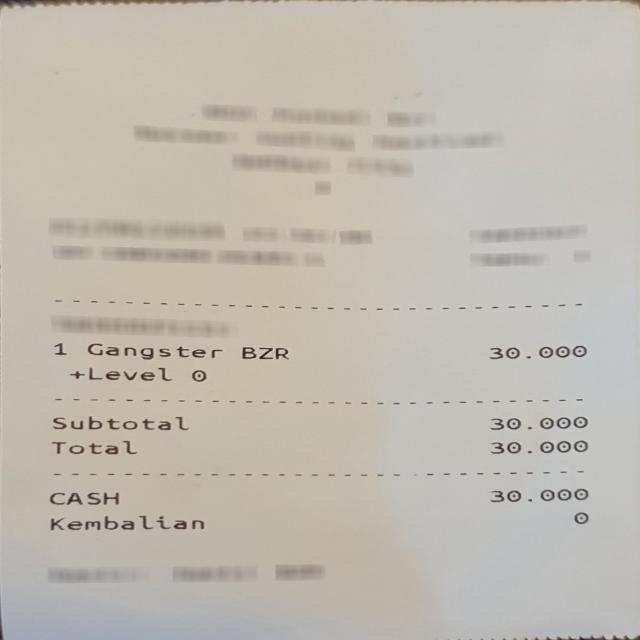text: (49, 514, 202, 530), (86, 342, 221, 358), (53, 416, 186, 429), (68, 365, 170, 379), (489, 488, 587, 502), (488, 344, 585, 358), (489, 440, 586, 453), (488, 417, 586, 429), (50, 441, 134, 454), (48, 491, 116, 504), (240, 346, 287, 358), (571, 510, 588, 524), (190, 369, 206, 380), (52, 342, 64, 353)
